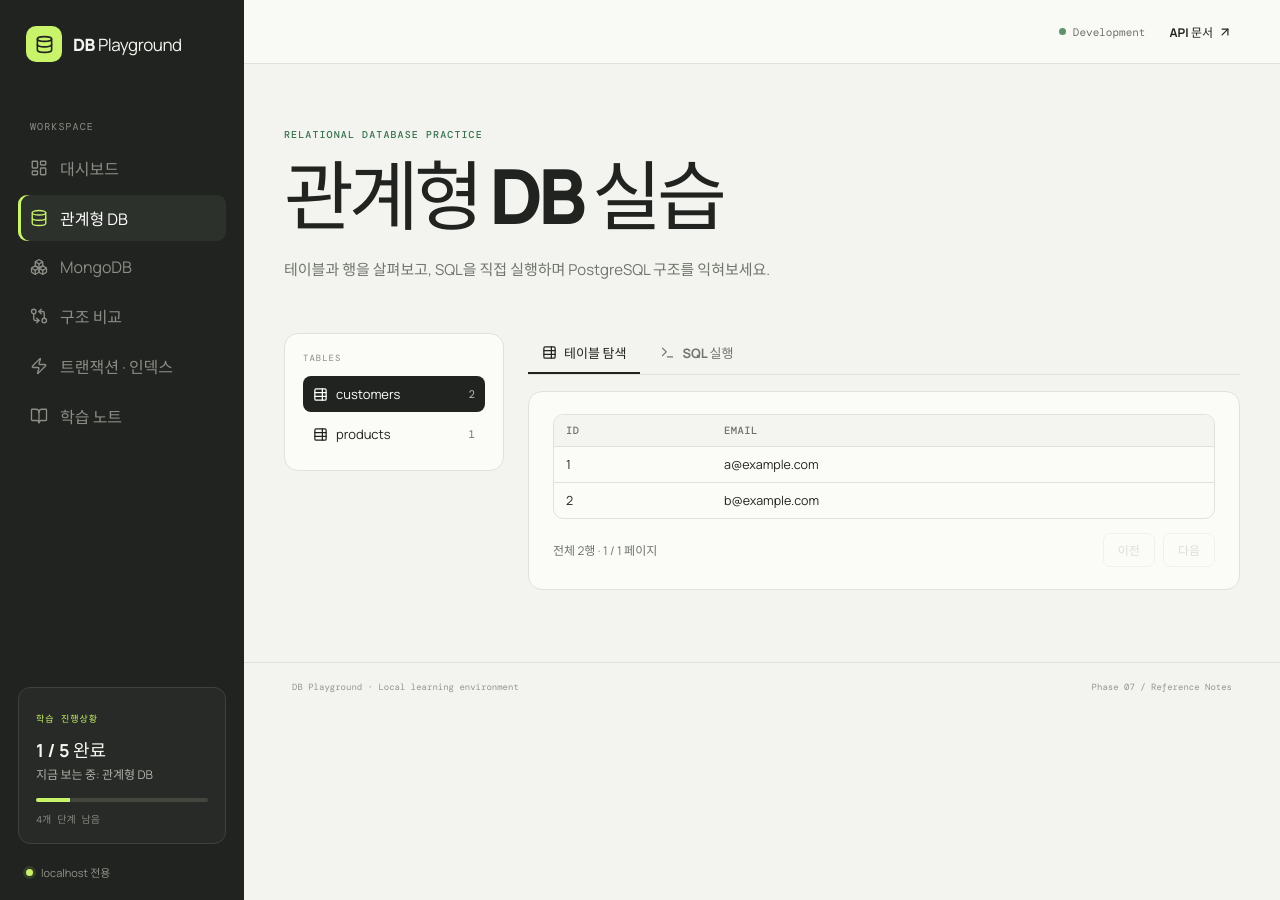
Scenario: RelationalPage › shows a validation error for disallowed SQL
The image size is (1280, 900).
Expected: the text "customers" is shown, [336, 386, 400, 404]
Click the tab "SQL 실행" at (697, 354), box [646, 334, 748, 374]
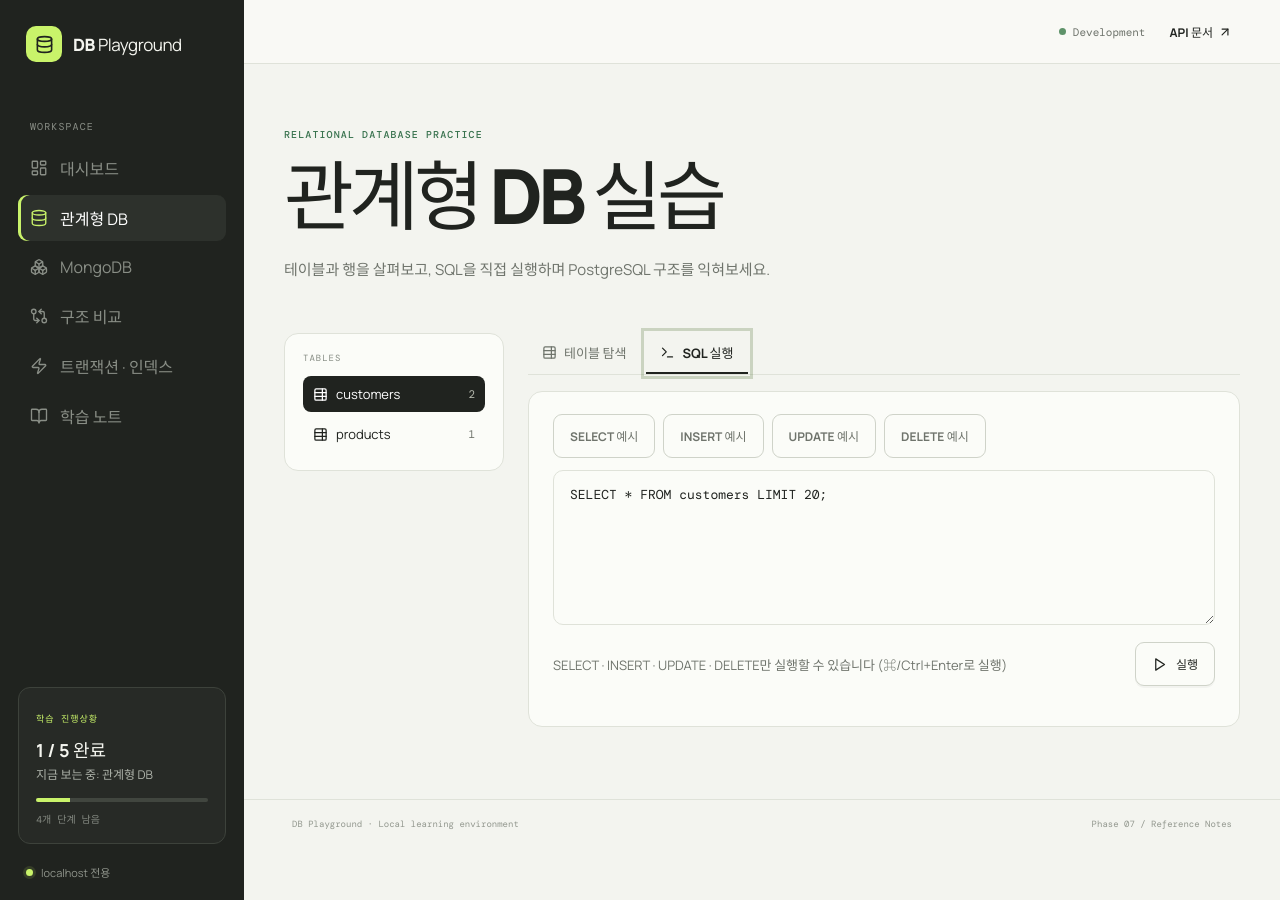
Replace the text in the text box with "DROP TABLE customers" at (884, 548), box [553, 470, 1215, 625]
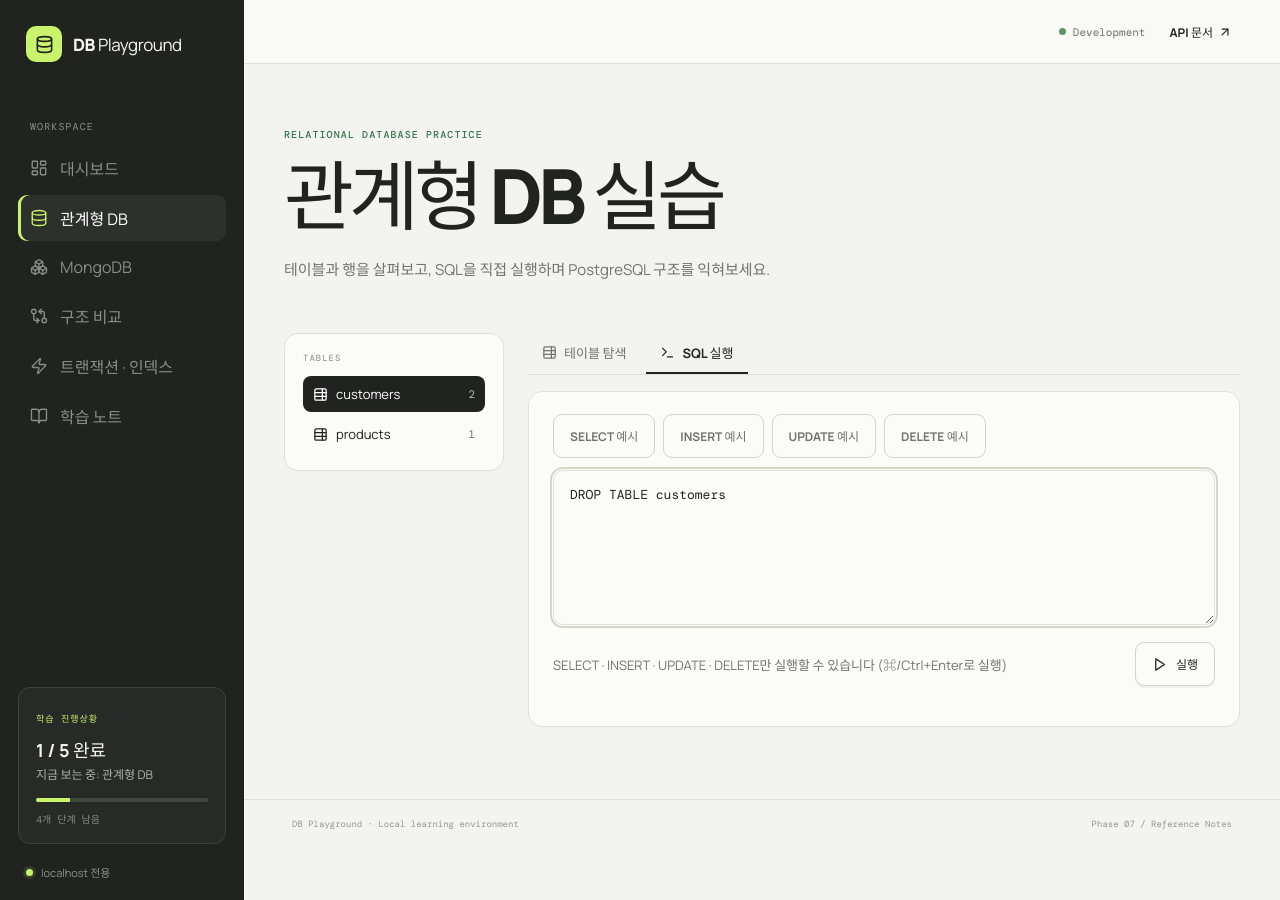
Click the button "실행" at (1175, 664), box [1135, 642, 1215, 686]
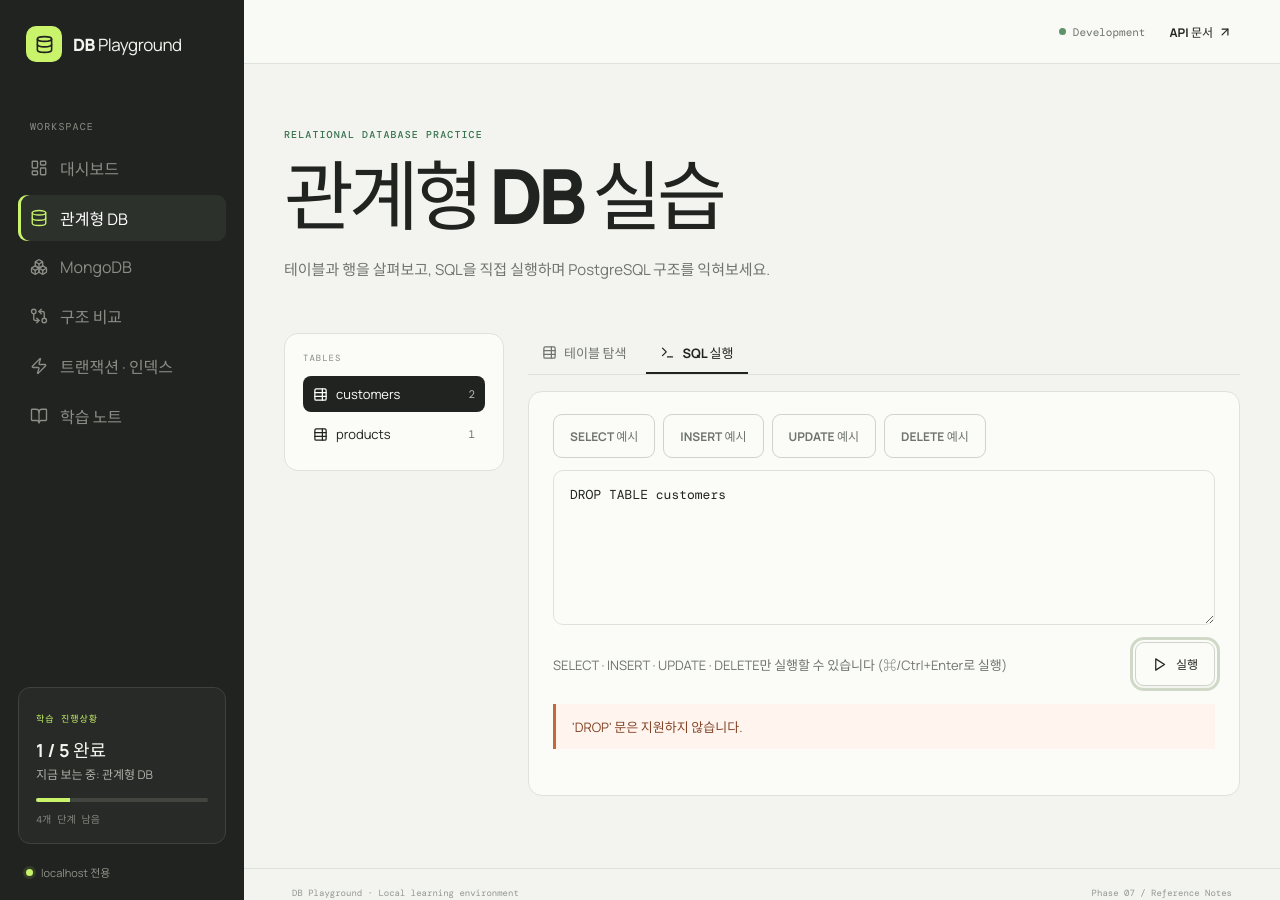
Expected: the message reads "'DROP' 문은 지원하지 않습니다.", [572, 718, 742, 736]
